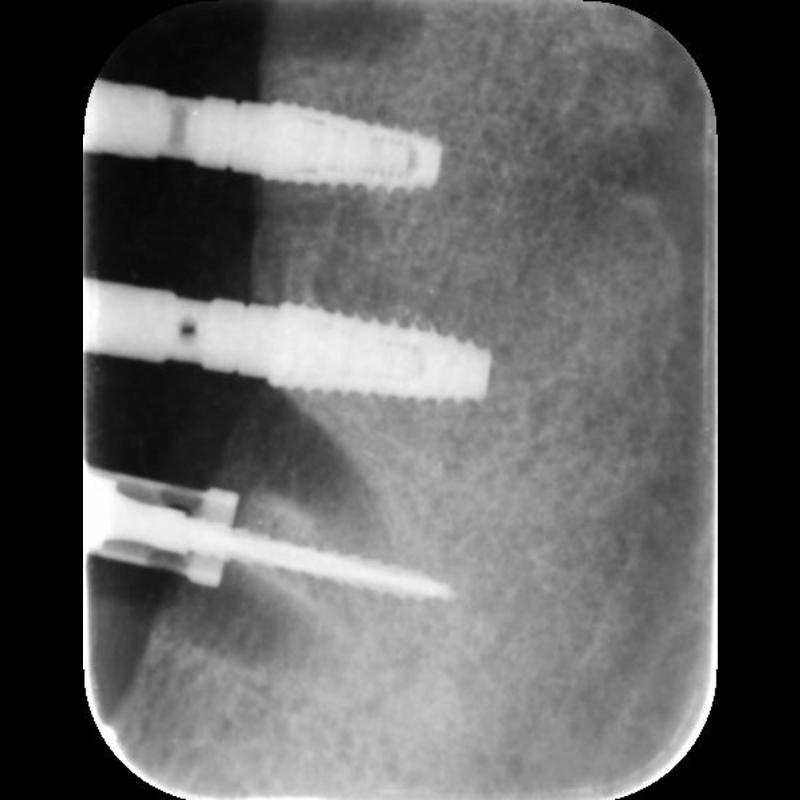Dentium: (263, 298, 495, 411), (224, 98, 448, 202)
